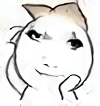dragon: (26, 29, 85, 77)
